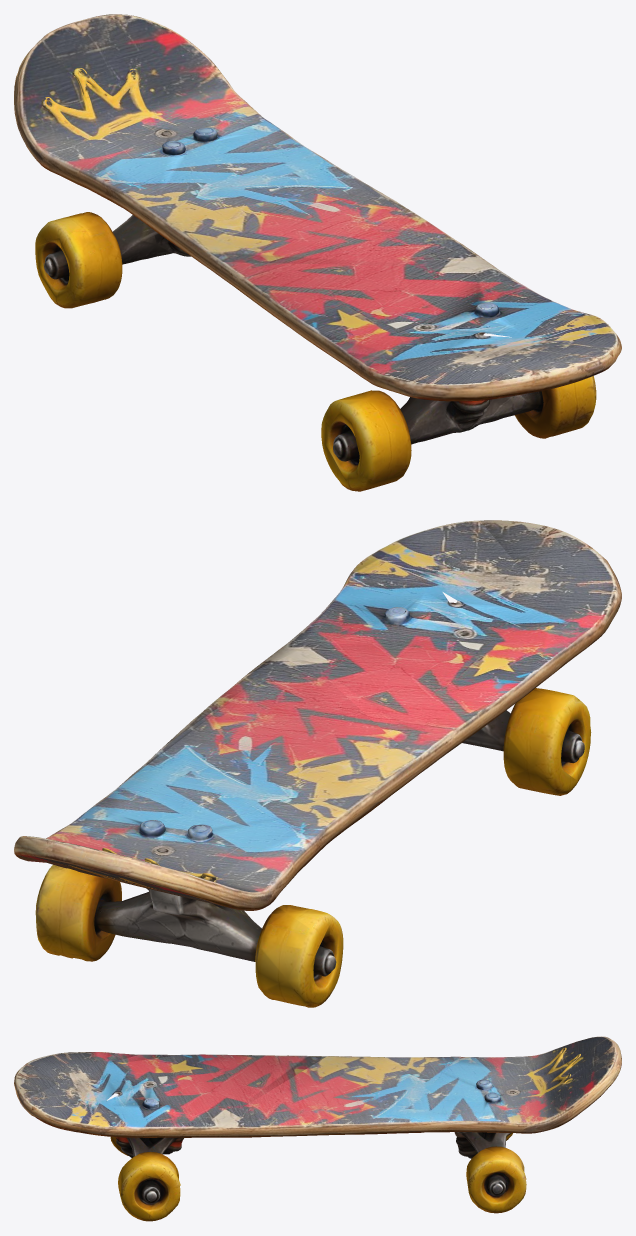
File: skateboard2.glb
3 renders of one model, top to bottom at view 1: azimuth 30°, elevation 25°; view 2: azimuth 150°, elevation 25°; view 3: azimuth 270°, elevation 25°, orthographic. The views are drawn at different scales.
Size of the model in its own units: 0.2906 by 0.1815 by 0.7991.
1 material, 1 textured.
